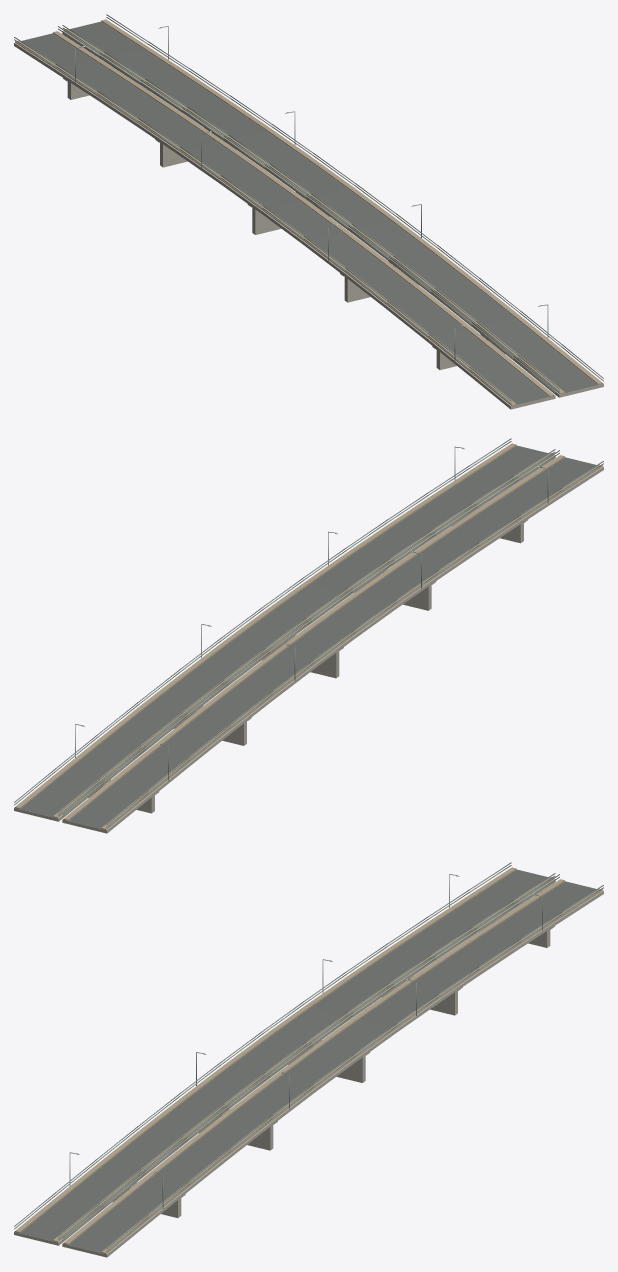
The model's file is long-xuyen-hoang-dieu-bridge-lod.glb.
The picture shows the model from 3 angles, top to bottom: view 1: azimuth 30°, elevation 25°; view 2: azimuth 150°, elevation 25°; view 3: azimuth 330°, elevation 25°; orthographic projection.
Parts seen in each view (by area): view 1: Hoang_Dieu_LOD_asphalt, Hoang_Dieu_LOD_paving, Hoang_Dieu_LOD_metal, Hoang_Dieu_LOD_stone; view 2: Hoang_Dieu_LOD_asphalt, Hoang_Dieu_LOD_paving, Hoang_Dieu_LOD_metal, Hoang_Dieu_LOD_stone; view 3: Hoang_Dieu_LOD_asphalt, Hoang_Dieu_LOD_paving, Hoang_Dieu_LOD_metal, Hoang_Dieu_LOD_stone.
Part boxes in pixels (bbox=[...]): Hoang_Dieu_LOD_asphalt: bbox=[21, 21, 597, 404]; Hoang_Dieu_LOD_paving: bbox=[15, 19, 602, 405]; Hoang_Dieu_LOD_metal: bbox=[14, 14, 603, 403]; Hoang_Dieu_LOD_stone: bbox=[14, 22, 603, 409]; Hoang_Dieu_LOD_asphalt: bbox=[20, 445, 596, 828]; Hoang_Dieu_LOD_paving: bbox=[15, 443, 602, 829]; Hoang_Dieu_LOD_metal: bbox=[14, 438, 603, 827]; Hoang_Dieu_LOD_stone: bbox=[14, 446, 603, 833]; Hoang_Dieu_LOD_asphalt: bbox=[20, 869, 596, 1252]; Hoang_Dieu_LOD_paving: bbox=[15, 867, 602, 1253]; Hoang_Dieu_LOD_metal: bbox=[14, 862, 603, 1251]; Hoang_Dieu_LOD_stone: bbox=[14, 870, 603, 1257].
Size of the model in its own units: 20.55 by 14.06 by 188.
5 materials, 2 textured.
